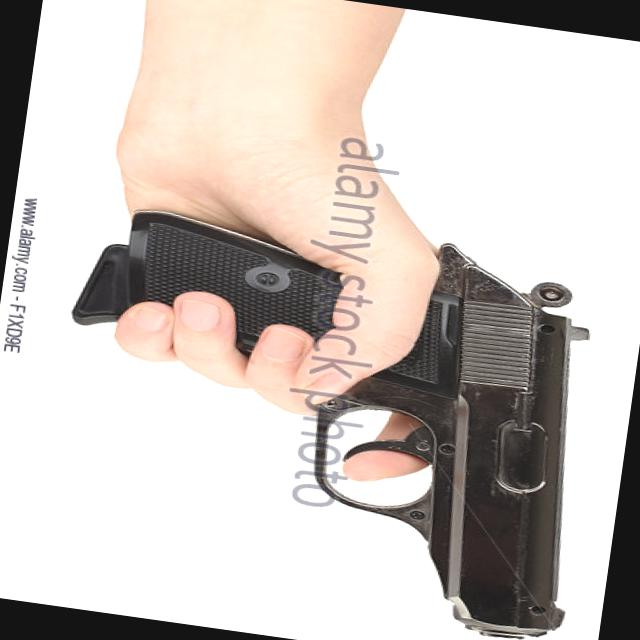handgun: (51, 190, 616, 639)
